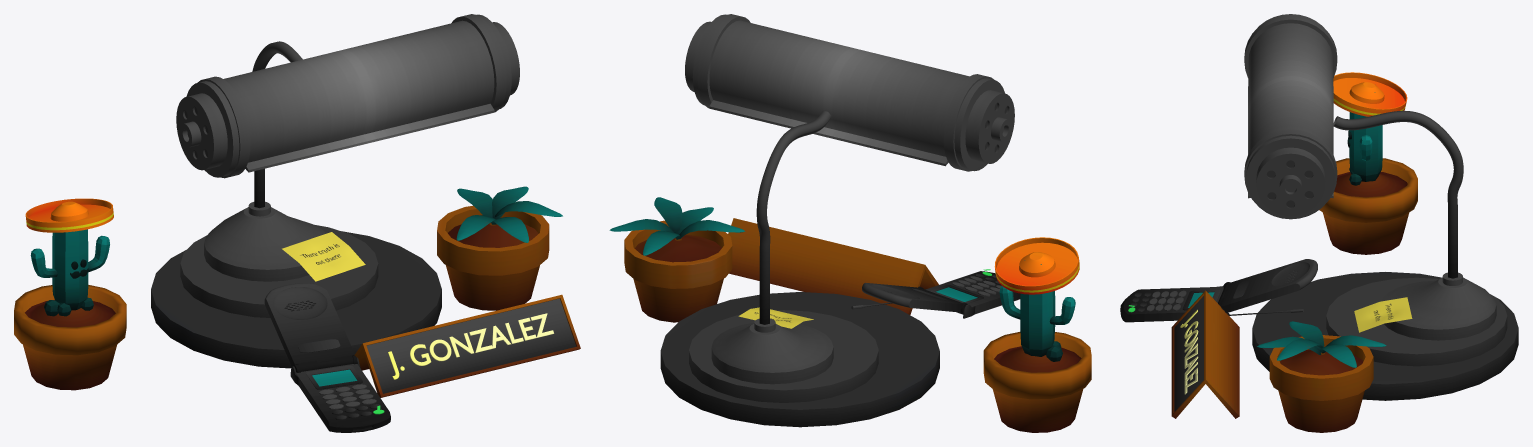
The model's file is ContactSecction.glb.
The picture shows the model from 3 angles, left to right: view 1: azimuth 30°, elevation 25°; view 2: azimuth 150°, elevation 25°; view 3: azimuth 270°, elevation 25°; orthographic projection. The views are drawn at different scales.
Parts seen in each view (by area): view 1: Lamp_1, Lamp_base, Name_support, Cacttus_pot, flowerpot, Cell_tap, Cacttus_body, flower, Cell_body, Cactus_Hat, Post_Contact, name_label (+3 smaller); view 2: Lamp_1, Lamp_base, Name_support, Cacttus_pot, flowerpot, Cactus_Hat, Cacttus_body, Lamp_support, flower, Cell_tap, Cell_body, Post_Contact (+2 smaller); view 3: Lamp_base, Lamp_1, flowerpot, Cacttus_pot, Name_support, Lamp_support, Cell_tap, Cactus_Hat, flower, Cacttus_body, Cell_body, Post_Contact (+2 smaller).
Boxes of the visible parts, x1,y1,x2,y2 form: Lamp_1: (176, 14, 519, 178); Lamp_base: (151, 201, 441, 368); Name_support: (354, 294, 580, 397); Cacttus_pot: (14, 285, 126, 390); flowerpot: (437, 206, 549, 310); Cell_tap: (264, 283, 357, 372); Cacttus_body: (30, 229, 109, 316); flower: (456, 186, 562, 242); Cell_body: (296, 364, 390, 432); Cactus_Hat: (25, 198, 113, 232); Post_Contact: (282, 232, 365, 281); name_label: (388, 313, 554, 379); Lamp_1: (685, 14, 1014, 171); Lamp_base: (660, 292, 939, 427); Name_support: (728, 218, 938, 314); Cacttus_pot: (983, 332, 1091, 432); flowerpot: (624, 220, 732, 322); Cactus_Hat: (994, 237, 1079, 294); Cacttus_body: (999, 260, 1075, 361); Lamp_support: (756, 110, 831, 324); flower: (609, 197, 745, 255); Cell_tap: (862, 282, 967, 313); Cell_body: (925, 271, 1020, 314); Post_Contact: (738, 307, 813, 328); Lamp_base: (1252, 272, 1518, 400); Lamp_1: (1244, 14, 1337, 219); flowerpot: (1269, 335, 1373, 432); Cacttus_pot: (1319, 158, 1417, 254); Name_support: (1171, 290, 1239, 418); Lamp_support: (1333, 110, 1463, 278); Cell_tap: (1218, 259, 1317, 313); Cactus_Hat: (1333, 72, 1407, 116); flower: (1257, 321, 1386, 367); Cacttus_body: (1349, 92, 1382, 185); Cell_body: (1120, 286, 1223, 322); Post_Contact: (1354, 297, 1412, 332).
Bounding box in the file's own units: 18.85 × 10.64 × 14.18.
Materials: 3 (2 with a texture image).
